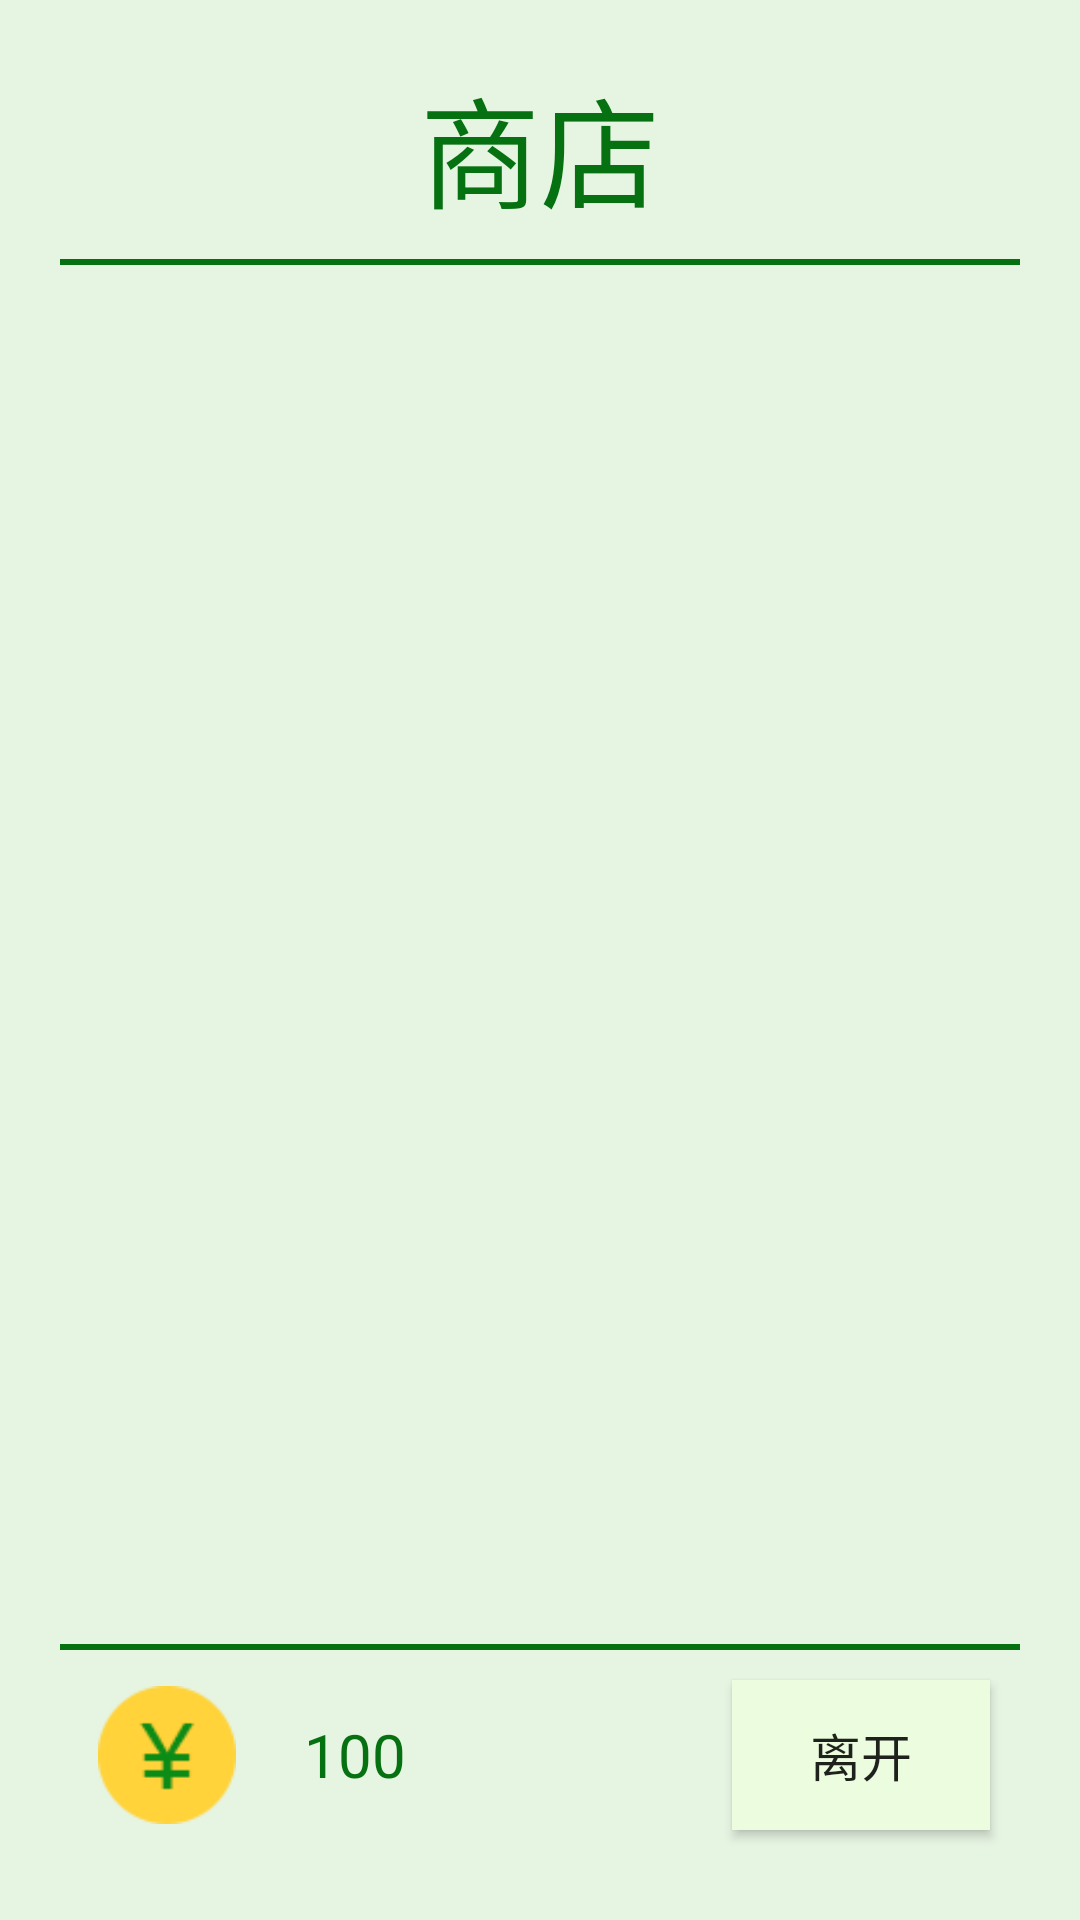

Locate icon controls on the screen. Image size 1080w x 1920h, boxes as (x1, y1, x2, y2).
coins: (98, 1686, 236, 1824)
